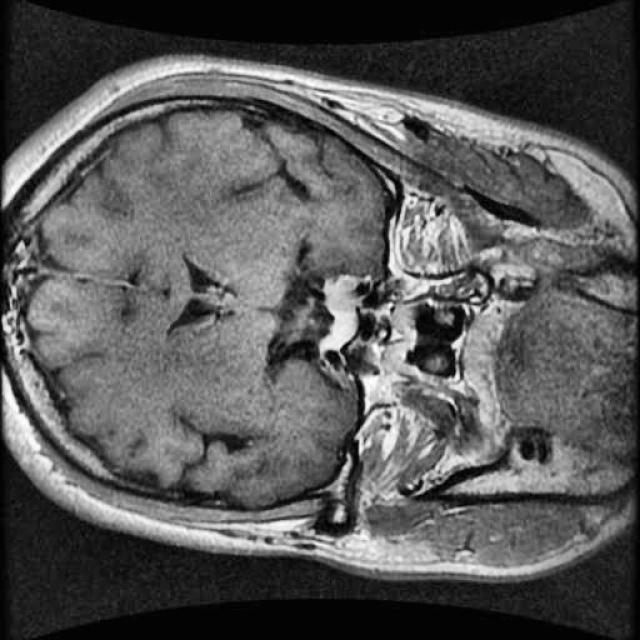Tumor: (314, 282, 382, 375)
